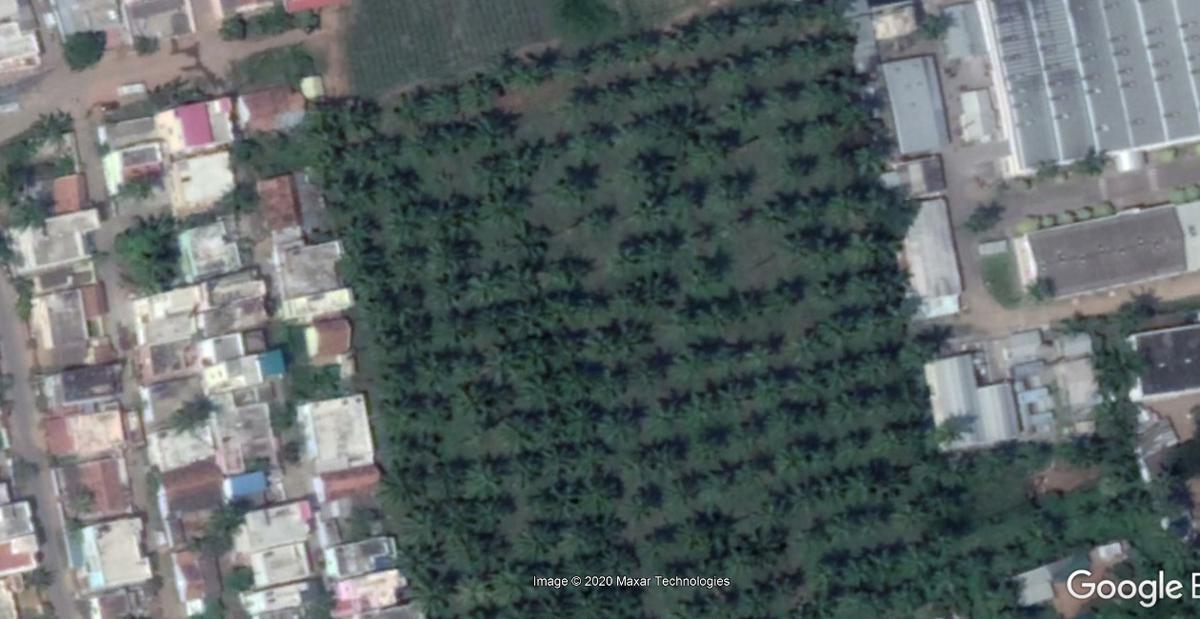coconut: (403, 563, 460, 617), (453, 382, 506, 435), (643, 103, 709, 145), (737, 522, 788, 571), (501, 222, 557, 264), (501, 439, 546, 491), (565, 439, 620, 479), (1101, 484, 1149, 529), (587, 357, 635, 402), (492, 563, 541, 607), (400, 503, 455, 542), (433, 220, 474, 272), (880, 418, 934, 457), (551, 358, 597, 403), (461, 448, 505, 495), (632, 234, 678, 278), (624, 278, 680, 314), (842, 173, 893, 212), (568, 517, 628, 550), (796, 181, 838, 228), (375, 461, 423, 502), (475, 107, 526, 145), (822, 553, 868, 595), (915, 322, 963, 361), (845, 137, 886, 182), (493, 340, 540, 378), (628, 186, 666, 232), (378, 388, 423, 425), (951, 542, 996, 579), (825, 386, 866, 426), (900, 542, 946, 577), (561, 399, 601, 439), (698, 130, 745, 164), (628, 154, 673, 189), (476, 154, 525, 186), (866, 539, 907, 577), (575, 117, 620, 151), (502, 411, 541, 450), (552, 166, 593, 203), (700, 291, 735, 334), (732, 284, 775, 319), (642, 439, 687, 472), (353, 267, 393, 304), (489, 189, 530, 225), (412, 85, 461, 115), (780, 439, 827, 470), (510, 296, 542, 341), (693, 251, 733, 287), (1028, 504, 1069, 539), (605, 400, 647, 434), (503, 59, 550, 89), (694, 373, 729, 413), (669, 472, 709, 507), (814, 359, 859, 390), (520, 511, 561, 545), (415, 352, 457, 385), (746, 406, 778, 449), (773, 269, 811, 305), (438, 278, 484, 307), (873, 331, 910, 367), (539, 282, 576, 318), (660, 15, 698, 50), (385, 209, 429, 239), (734, 49, 769, 86), (635, 357, 674, 390), (778, 148, 818, 180), (750, 3, 787, 37), (689, 335, 723, 372), (734, 580, 768, 617), (710, 453, 748, 486), (861, 227, 893, 266), (701, 4, 735, 40), (689, 219, 727, 251), (431, 120, 470, 151), (646, 522, 680, 557), (836, 472, 868, 509), (819, 234, 850, 272), (786, 40, 828, 68), (783, 595, 832, 619), (698, 518, 737, 548), (620, 25, 655, 58), (701, 420, 734, 455), (333, 174, 374, 202), (328, 94, 372, 120), (547, 325, 587, 353), (780, 225, 814, 257), (780, 399, 815, 430), (592, 313, 619, 353), (362, 135, 399, 164), (775, 117, 812, 146), (645, 62, 673, 100), (738, 335, 771, 367), (720, 173, 751, 207), (460, 73, 499, 100), (806, 320, 836, 355), (324, 141, 356, 173), (600, 77, 639, 103), (380, 169, 420, 194), (761, 192, 793, 223), (652, 398, 682, 431), (576, 281, 614, 307), (675, 68, 712, 94), (556, 46, 587, 77), (568, 89, 600, 119), (784, 485, 820, 511), (914, 495, 950, 521), (617, 316, 656, 340), (623, 490, 657, 517), (665, 598, 706, 619), (586, 204, 620, 228), (397, 244, 424, 273), (728, 99, 757, 122), (349, 212, 376, 236)
